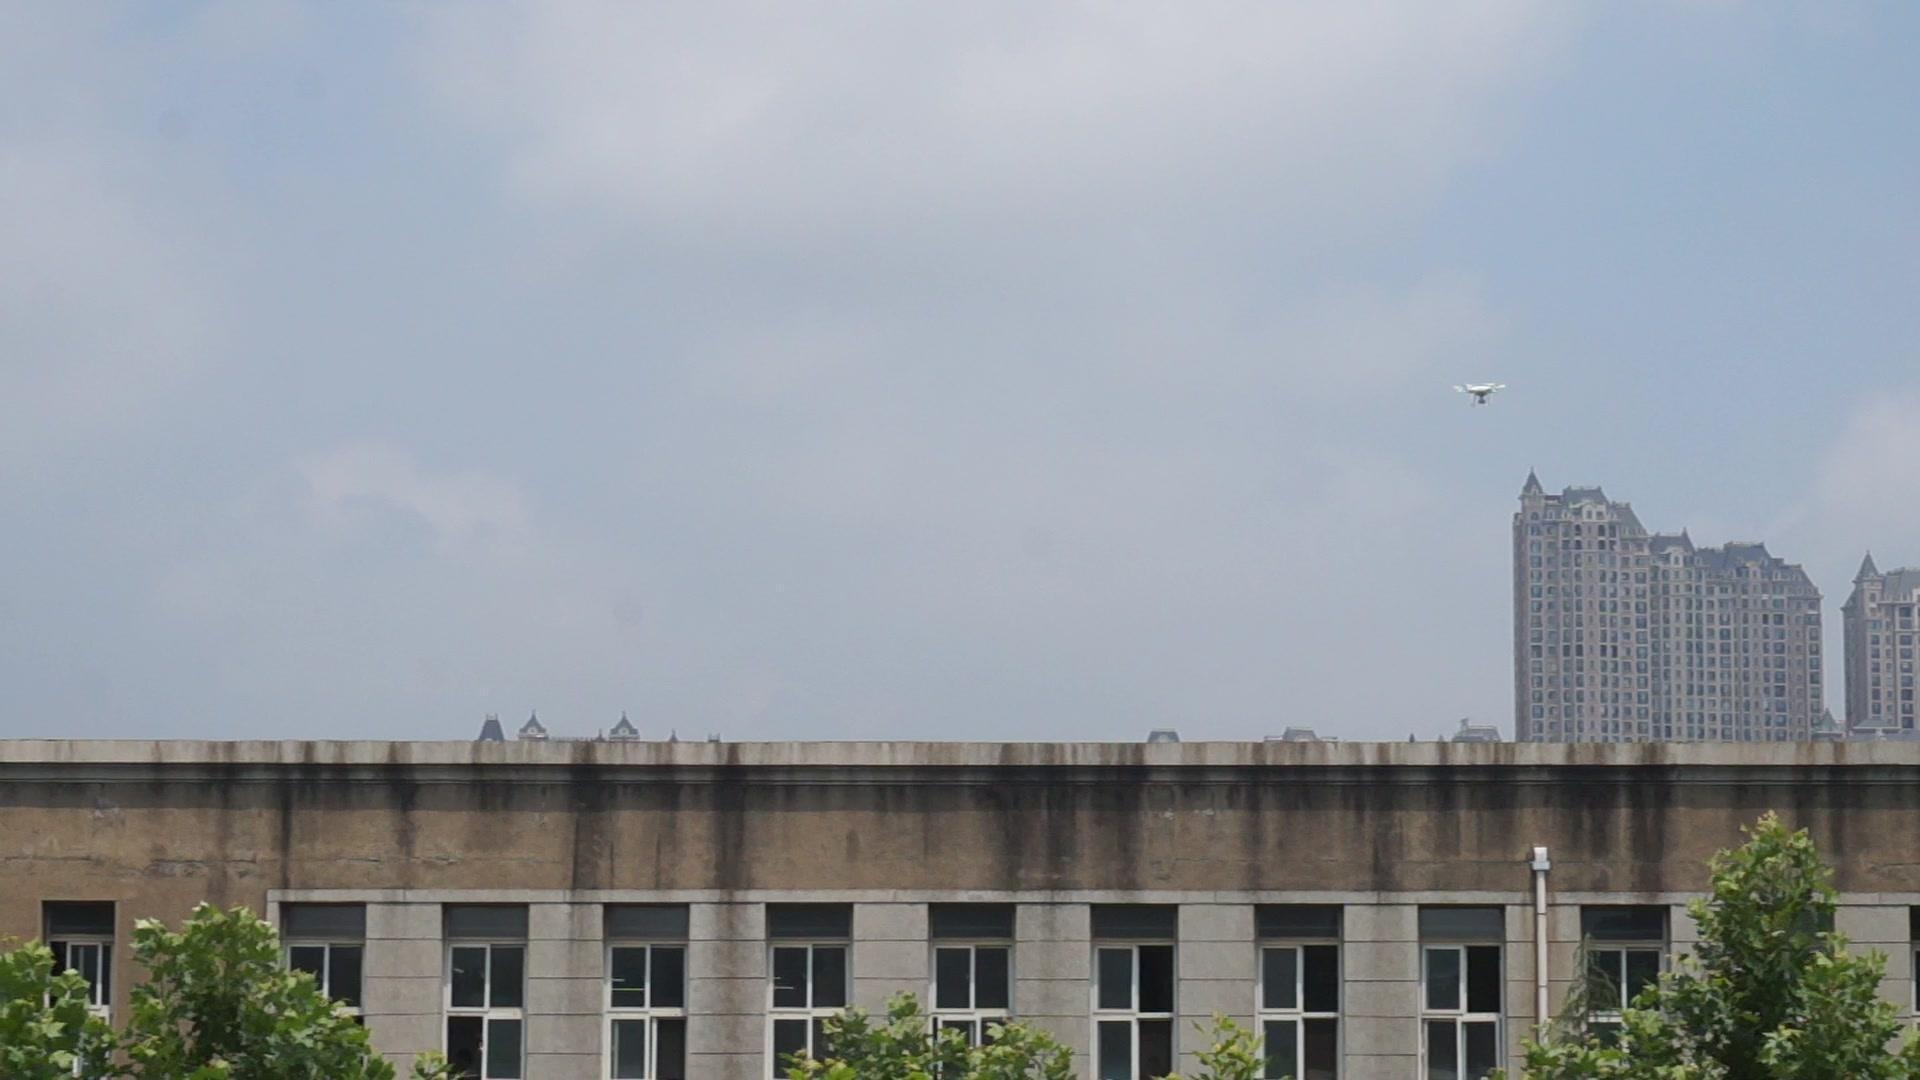UAV: (1455, 382, 1509, 407)
